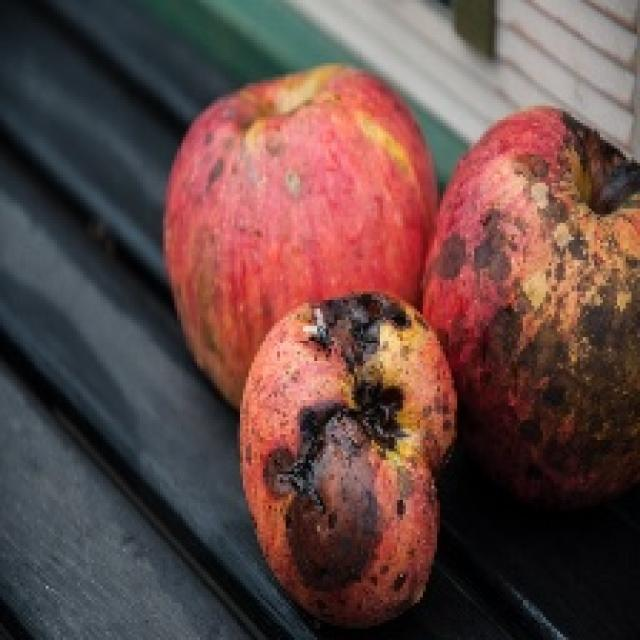rotten_apple: (458, 110, 640, 502), (244, 303, 453, 618), (169, 63, 430, 290)
